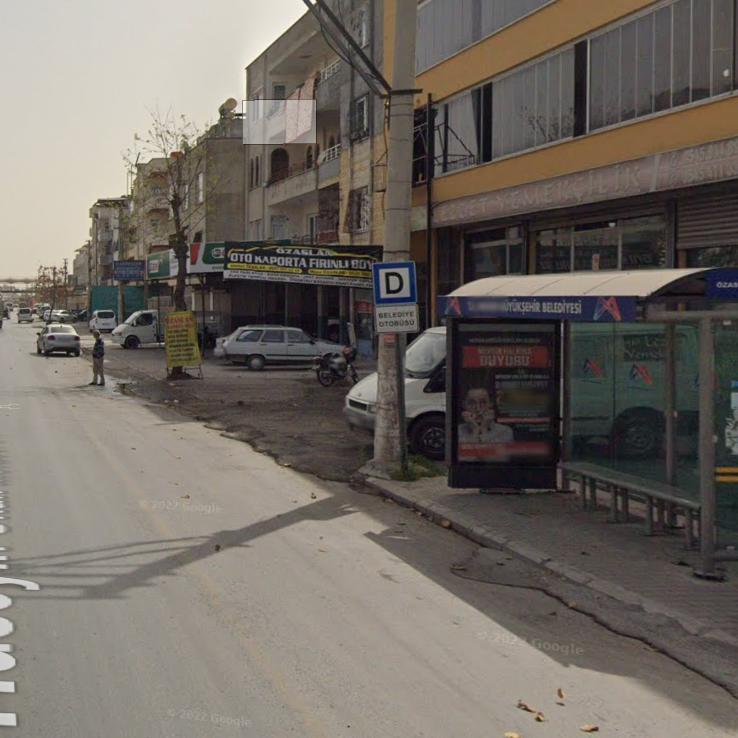station: (377, 266, 415, 300)
